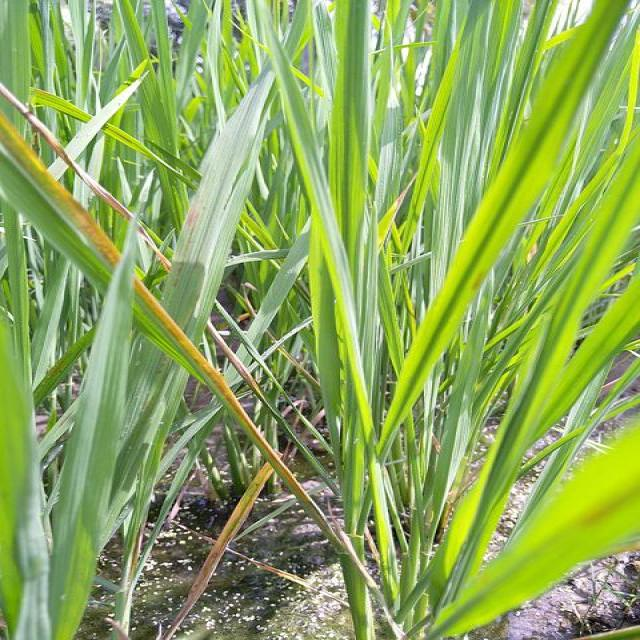Leaf Blight: (135, 279, 336, 543), (0, 83, 172, 273), (0, 127, 121, 272), (208, 321, 267, 401), (183, 179, 207, 261)
